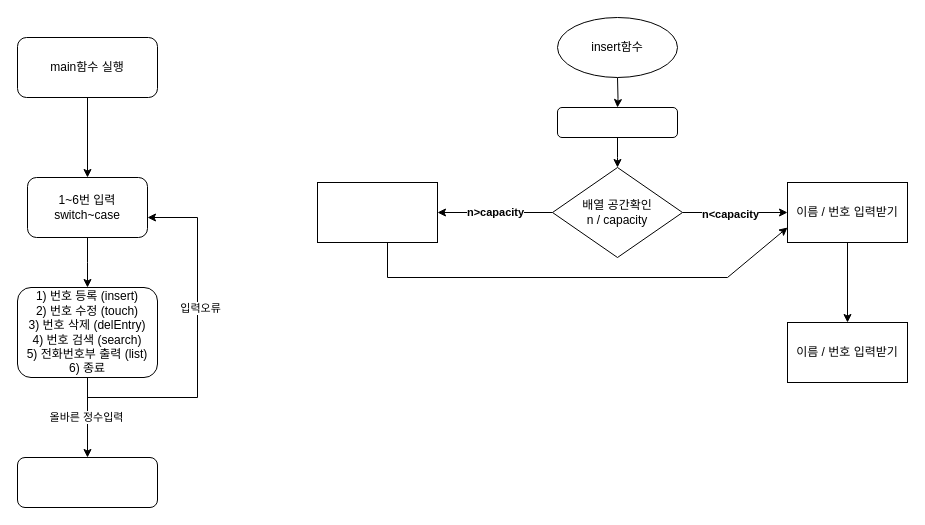
This 925x525 diagram has some shape labels left out. Each missing label, with the box of its shape:
buf1, buf2 선언: (556, 106, 678, 138)
번호에 맞는 함수 실행: (16, 456, 158, 508)
저장공간 2배: (316, 182, 438, 242)
